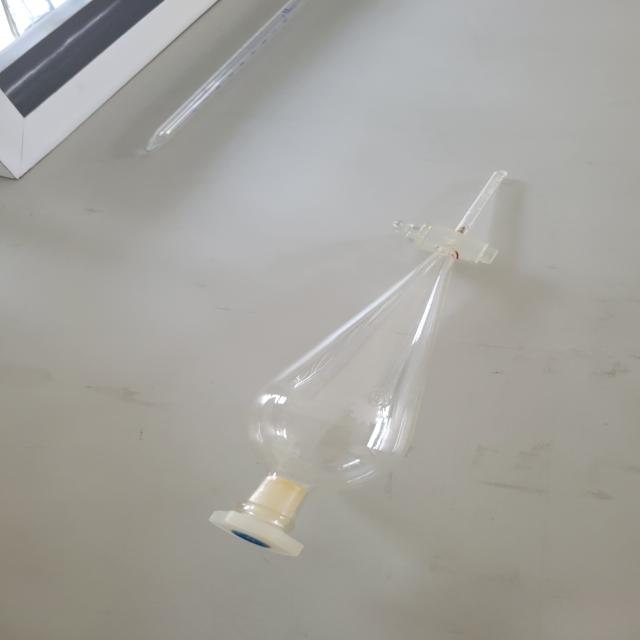Separating_Funnel: (191, 142, 538, 588)
